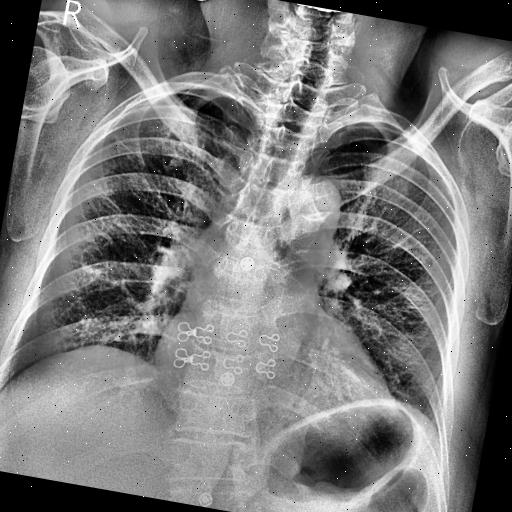0- Aortic enlargement: (274, 172, 344, 260), (273, 172, 345, 246), (290, 170, 346, 226)
13- Pulmonary fibrosis: (112, 136, 144, 158)
3- Cardiomegaly: (148, 311, 408, 432), (150, 334, 398, 426), (150, 324, 398, 412)
